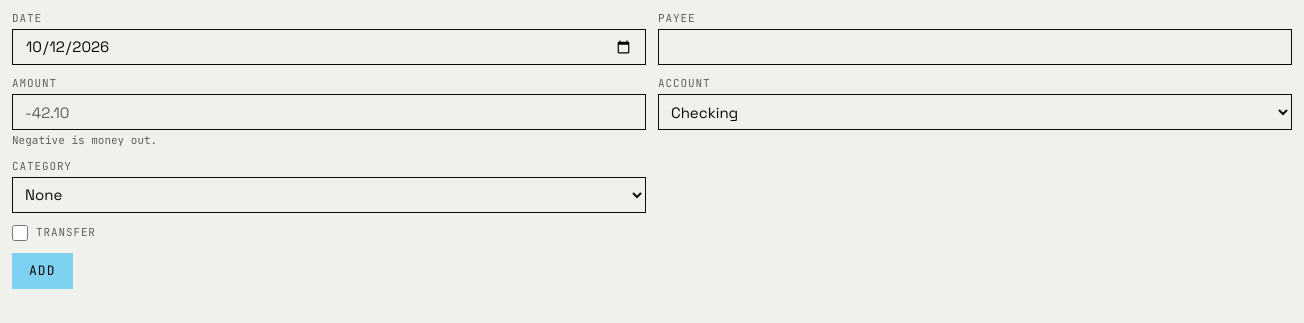
Test case: rejects empty payee and zero amount
The width and height of the screenshot is (1304, 323).
Type "0" into the number field labelled "Amount" at (329, 112), box [12,94,646,130]
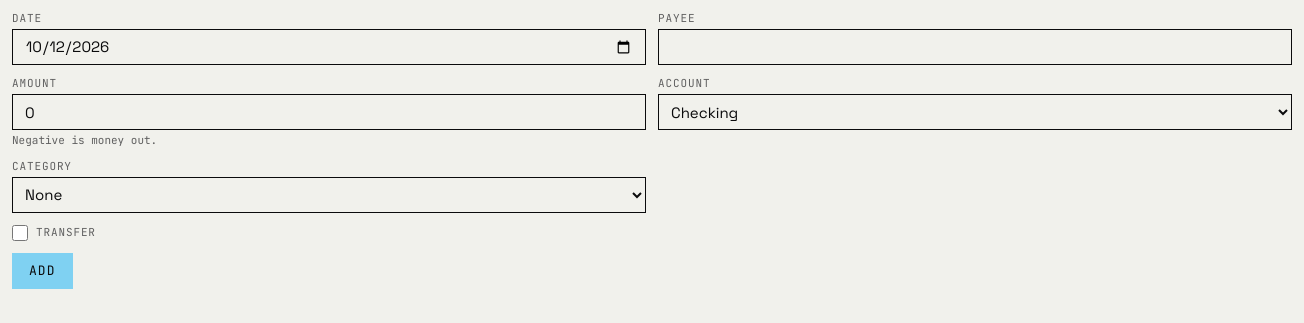
Submit the form "Add"
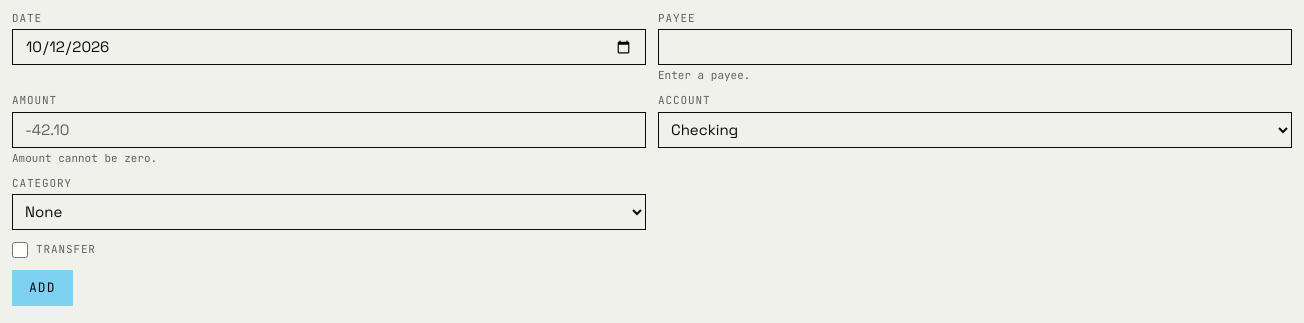
Expected: the text "Enter a payee." is shown, [658,68,750,82]
Expected: the text "Amount cannot be zero." is shown, [12,151,157,165]
